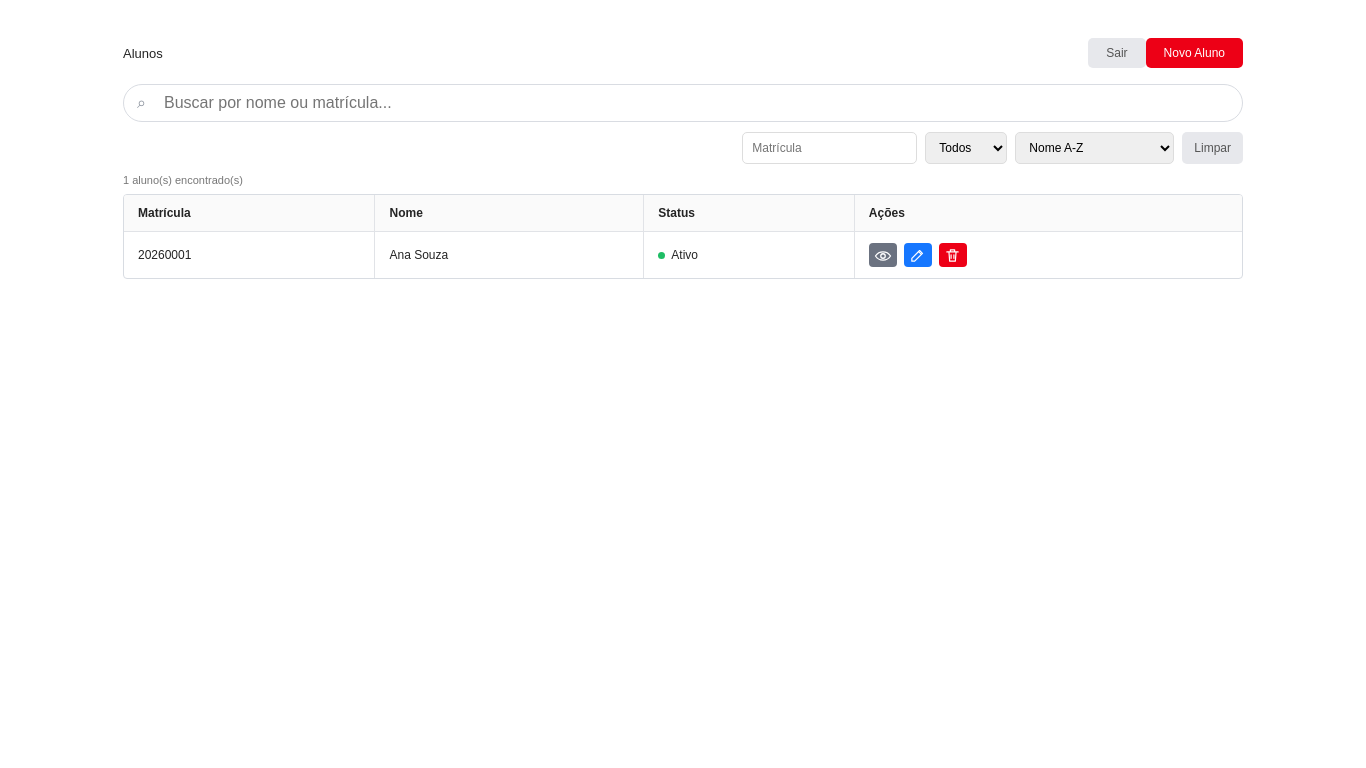
Test case: ListaAlunosComponent › deve abrir o modal com nome e matricula do aluno
Click the button with class "excluir" at (953, 255), box [939, 243, 967, 267]
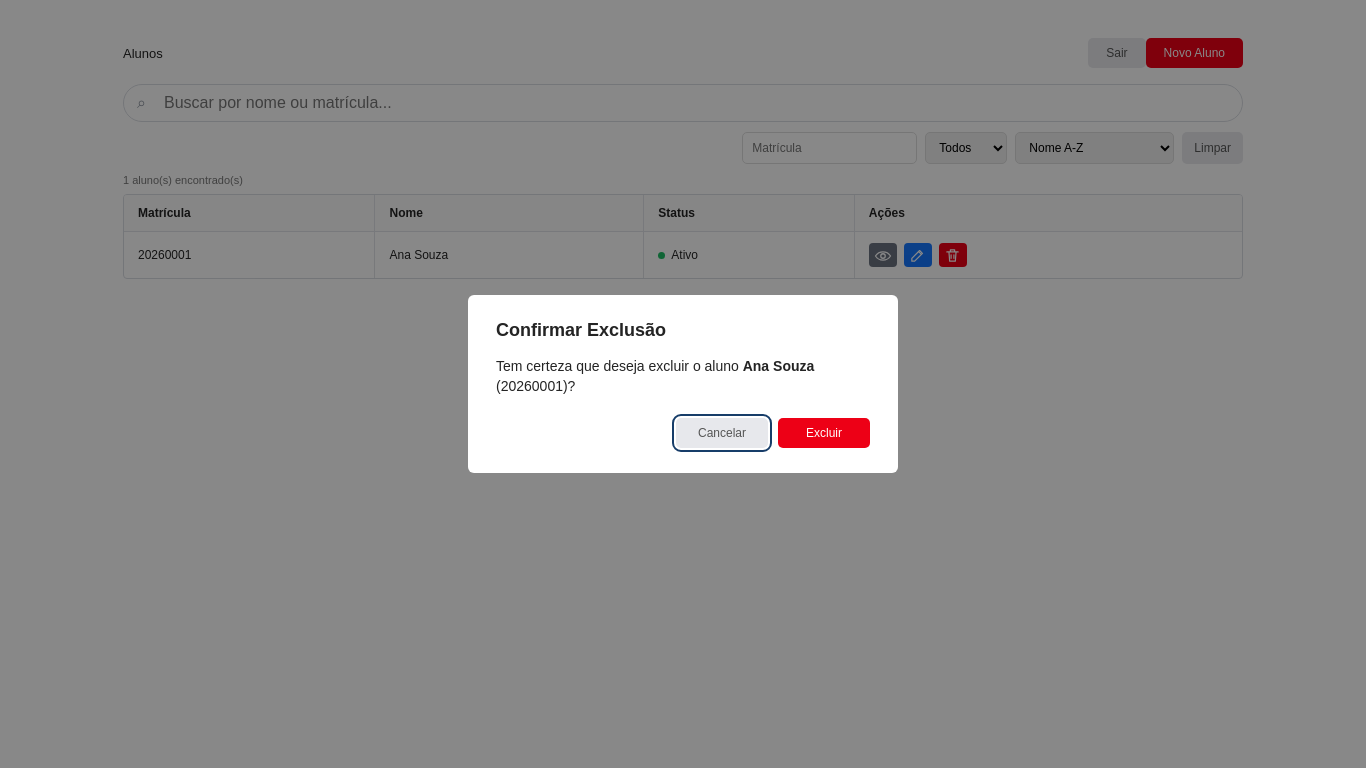
expect the dialog with class "modal" shows "Ana Souza": met, box [743, 358, 814, 374]
expect the dialog with class "modal" shows "20260001": met, box [496, 378, 575, 394]
